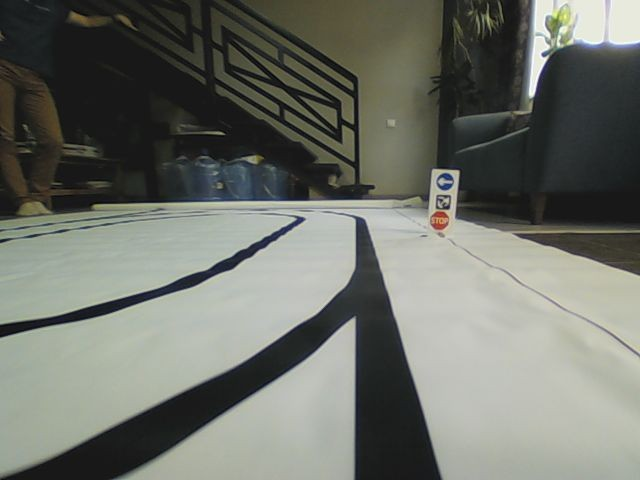Stop: (429, 210, 449, 230)
